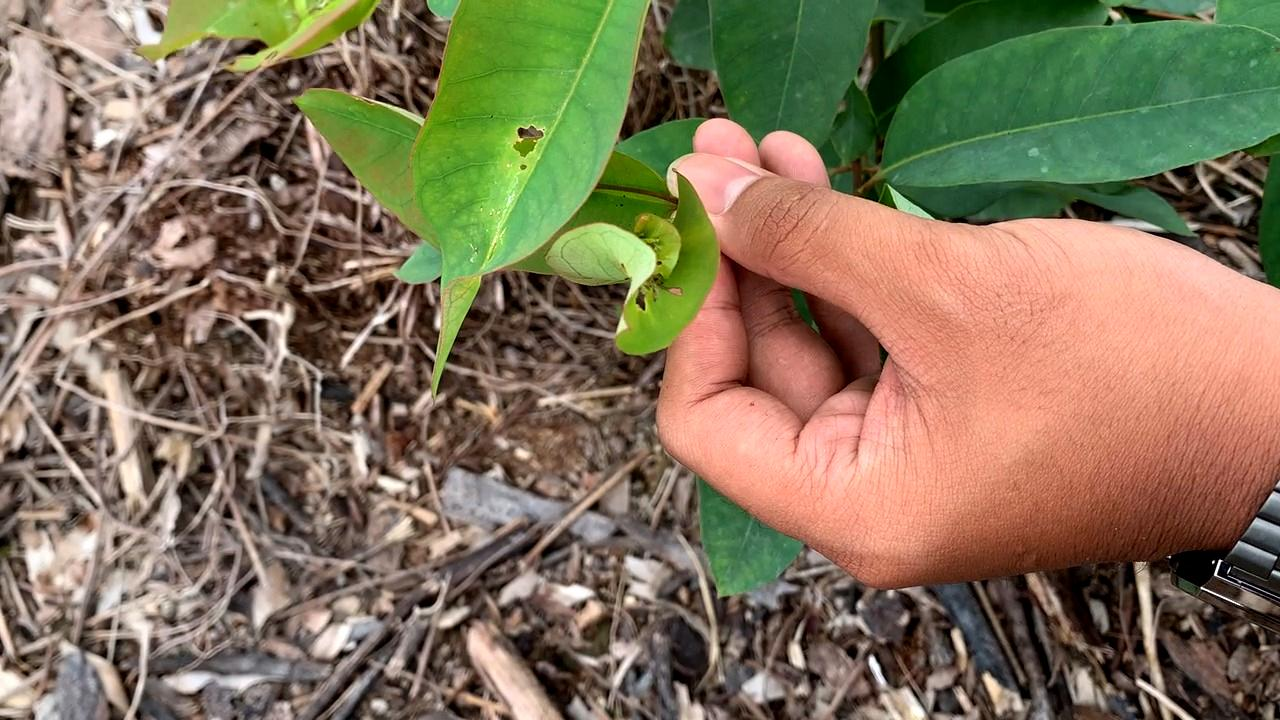Leaf Roller - Leaf: (546, 209, 721, 353)
